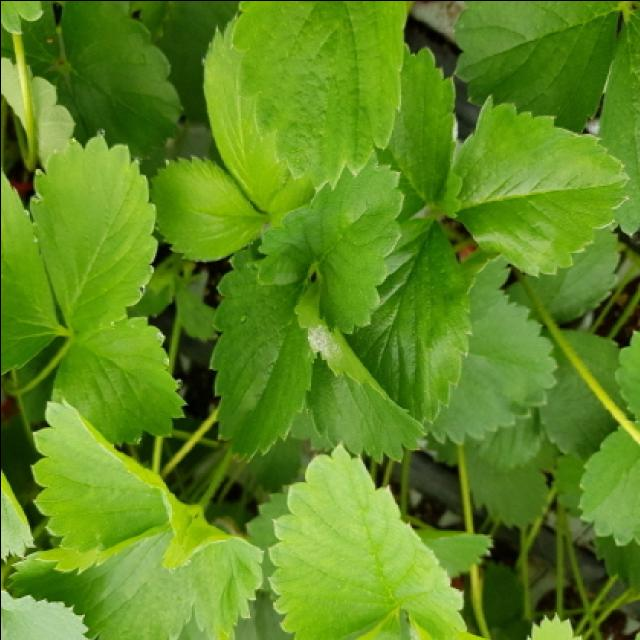Powdery Mildew Leaf: (291, 272, 428, 463)
